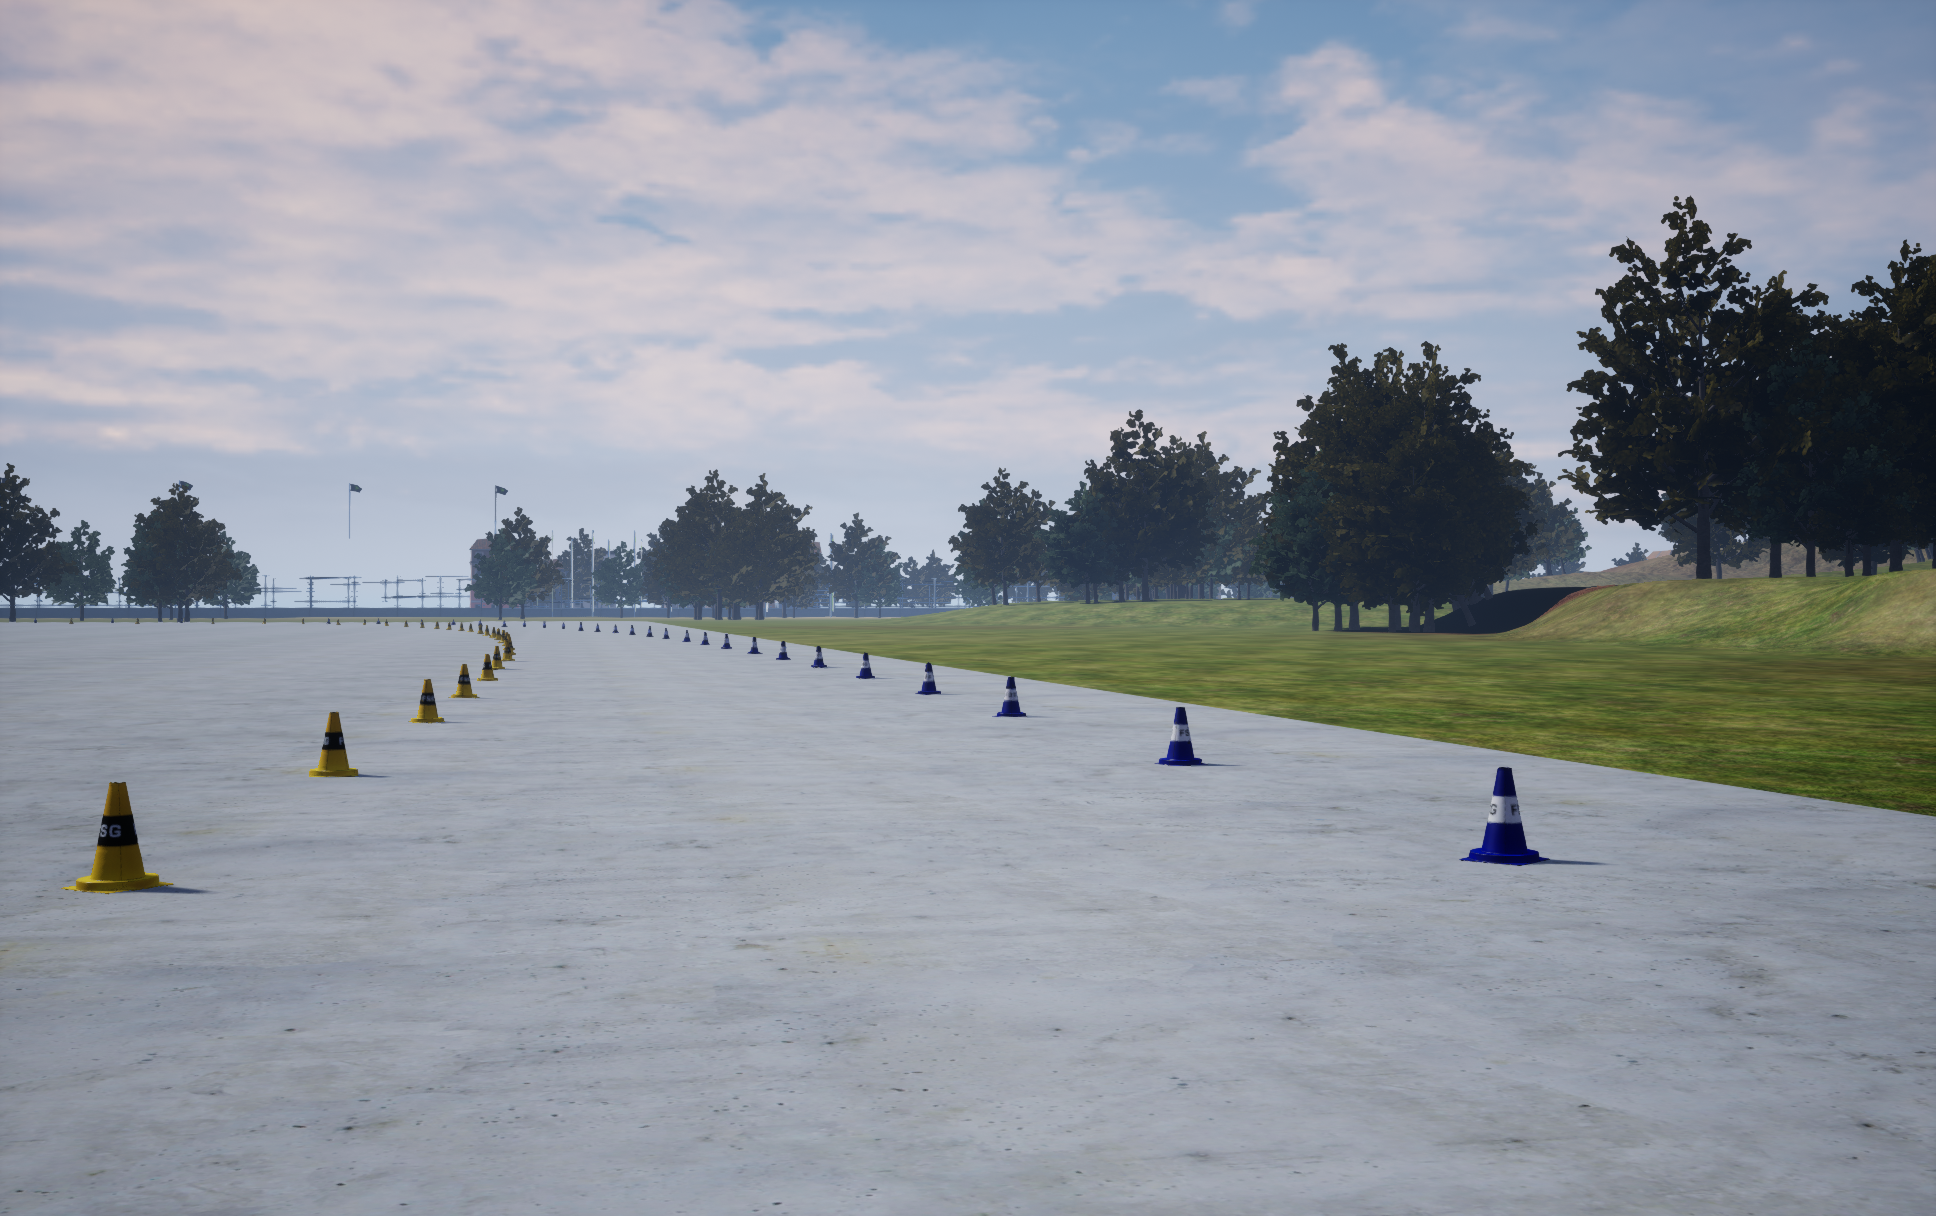blue: (62, 782, 172, 892), (310, 712, 359, 776), (408, 679, 444, 721), (448, 664, 479, 698), (478, 654, 497, 679), (492, 646, 504, 670), (502, 642, 514, 660)
yellow: (1458, 766, 1549, 864), (1154, 707, 1208, 765), (992, 677, 1025, 716), (915, 663, 940, 693), (856, 651, 874, 678), (811, 646, 827, 667), (776, 642, 790, 658)
